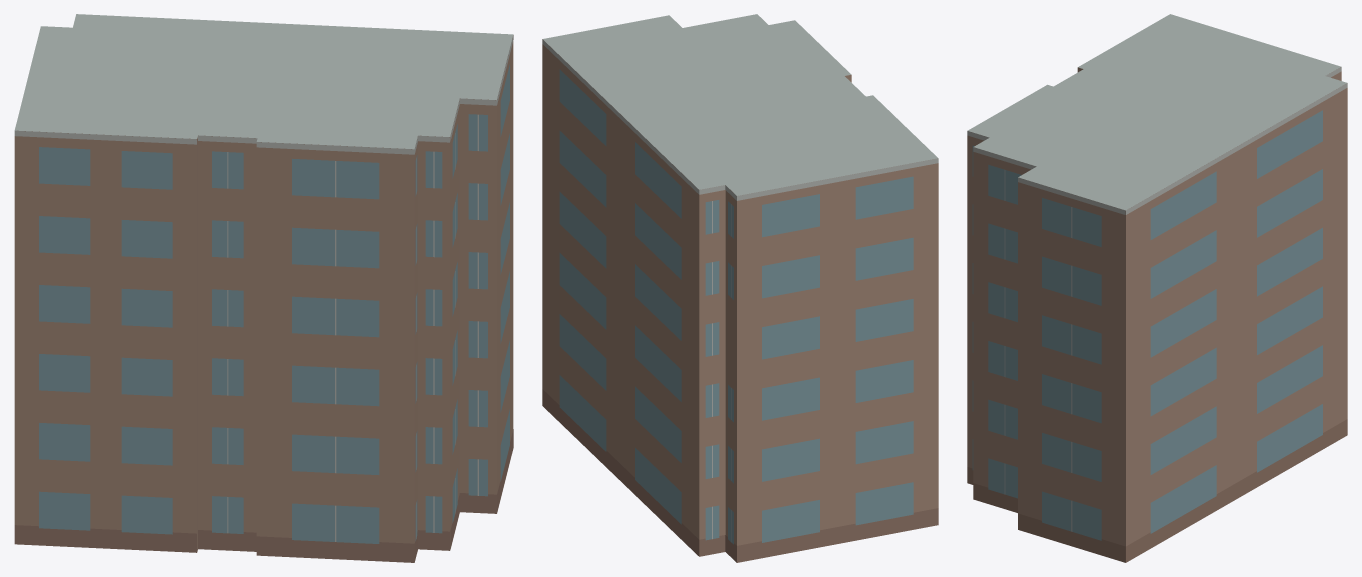
The model's file is survey-upis-32652624.glb.
3 renders of one model, left to right at view 1: azimuth 30°, elevation 25°; view 2: azimuth 150°, elevation 25°; view 3: azimuth 270°, elevation 25°, orthographic. The views are drawn at different scales.
Parts seen in each view (by area): view 1: survey-upis-32652624.tmp; view 2: survey-upis-32652624.tmp; view 3: survey-upis-32652624.tmp.
Boxes of the visible parts, x1,y1,x2,y2 form: survey-upis-32652624.tmp: [14, 14, 513, 562]; survey-upis-32652624.tmp: [542, 14, 938, 562]; survey-upis-32652624.tmp: [967, 14, 1347, 562].
Size of the model in its own units: 21.89 by 18.3 by 17.9.
